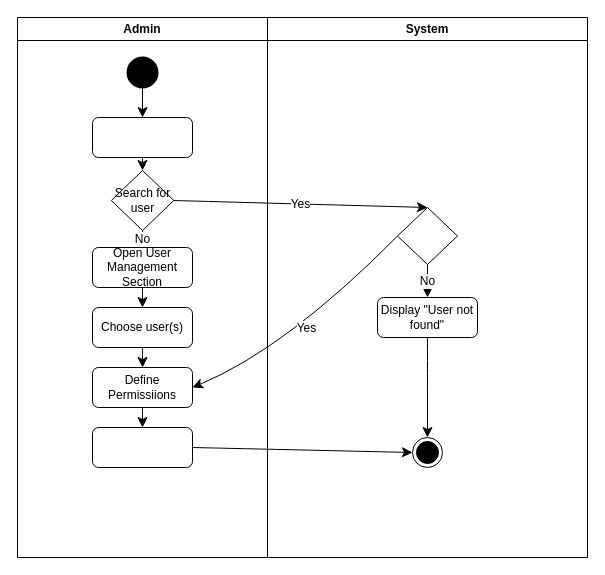
This 605x575 diagram has some shape labels left out. The shapes that lost their labels are listed below. From the top down, each one's centre as x and y in pixels, then its label:
the point at 142,137: Login to system
the point at 427,235: User found
the point at 142,447: Save changes
